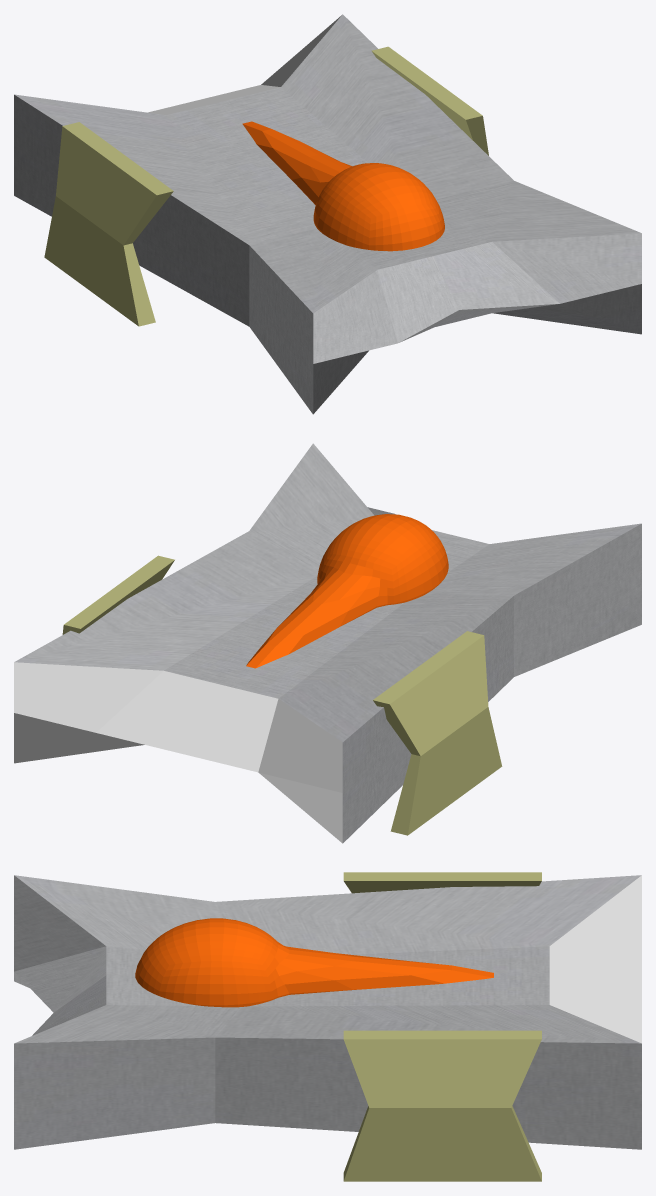
File: eskleoship-01.glb
The picture shows the model from 3 angles, top to bottom: view 1: azimuth 30°, elevation 25°; view 2: azimuth 150°, elevation 25°; view 3: azimuth 270°, elevation 25°; orthographic projection. The views are drawn at different scales.
Visible parts, largest first — view 1: Cube, Cube.005, Cube.001, Cube.003, Cube.004; view 2: Cube, Cube.004, Cube.005, Cube.001, Cube.003; view 3: Cube, Cube.003, Cube.001, Cube.004, Cube.005.
Boxes of the visible parts, left/top/right/bottom form: Cube: left=14, top=14, right=641, bottom=414; Cube.005: left=44, top=122, right=173, bottom=326; Cube.001: left=242, top=121, right=444, bottom=251; Cube.003: left=371, top=46, right=488, bottom=155; Cube.004: left=148, top=15, right=341, bottom=114; Cube: left=14, top=443, right=641, bottom=843; Cube.004: left=14, top=662, right=342, bottom=843; Cube.005: left=373, top=631, right=502, bottom=835; Cube.001: left=246, top=514, right=448, bottom=668; Cube.003: left=62, top=555, right=174, bottom=634; Cube: left=14, top=875, right=641, bottom=1149; Cube.003: left=343, top=1030, right=541, bottom=1181; Cube.001: left=135, top=918, right=493, bottom=1007; Cube.004: left=549, top=875, right=641, bottom=1043; Cube.005: left=343, top=872, right=541, bottom=893.
Bounding box in the file's own units: 4.44 × 1.82 × 6.33.
Materials: 5 (1 with a texture image).
